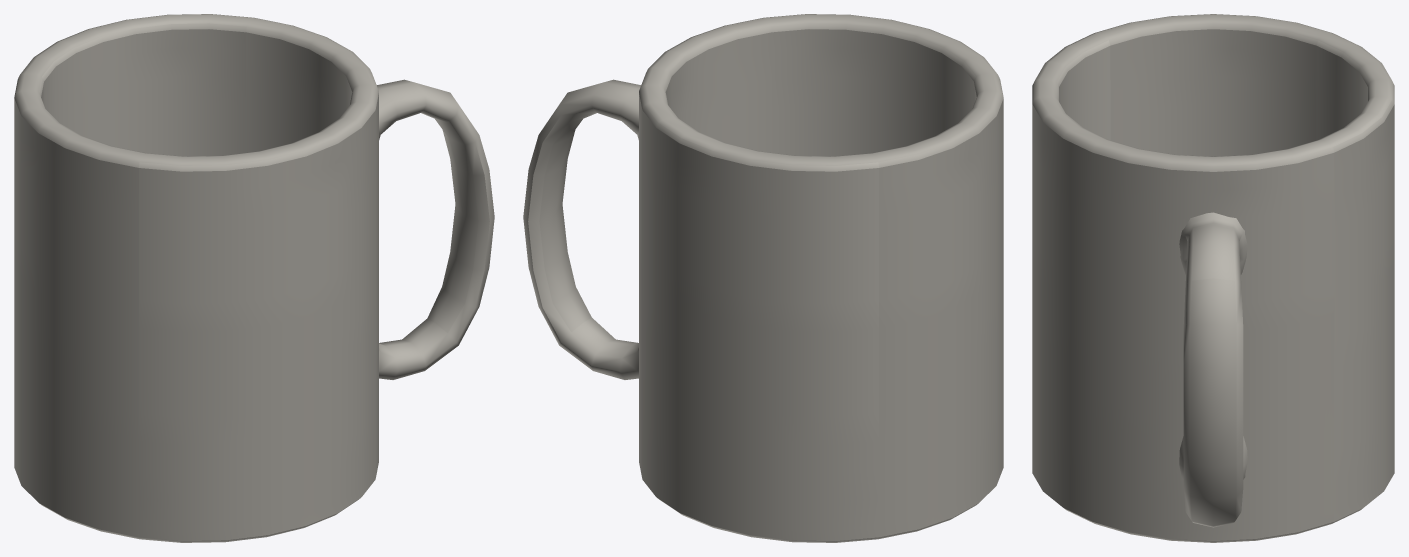
Rendered from mug.glb.
The picture shows the model from 3 angles, left to right: view 1: azimuth 30°, elevation 25°; view 2: azimuth 150°, elevation 25°; view 3: azimuth 270°, elevation 25°; orthographic projection.
Visible parts, largest first — view 1: mug; view 2: mug; view 3: mug.
Part boxes in pixels (x1,y1,x2,y2): mug: (14, 14, 494, 542); mug: (523, 14, 1003, 542); mug: (1032, 14, 1394, 542).
Size of the model in its own units: 0.1295 by 0.1047 by 0.0906.
1 material, 1 textured.
